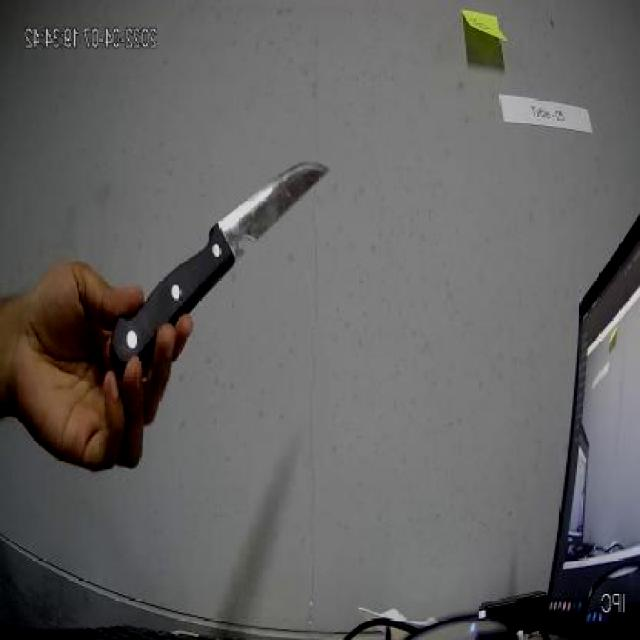knife: (109, 159, 329, 386)
